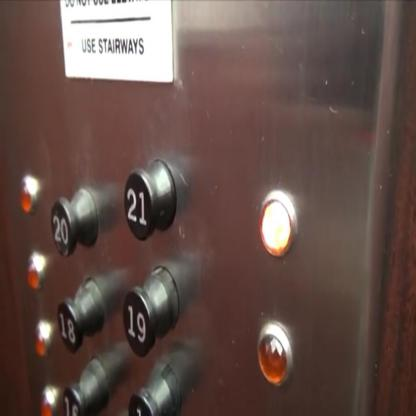18: (55, 278, 107, 352)
19: (122, 263, 180, 356)
20: (49, 186, 100, 257)
21: (122, 163, 177, 242)
indicator: (257, 187, 298, 263), (257, 322, 294, 386), (25, 248, 49, 291), (16, 175, 41, 216), (32, 315, 54, 358), (35, 382, 58, 415)
